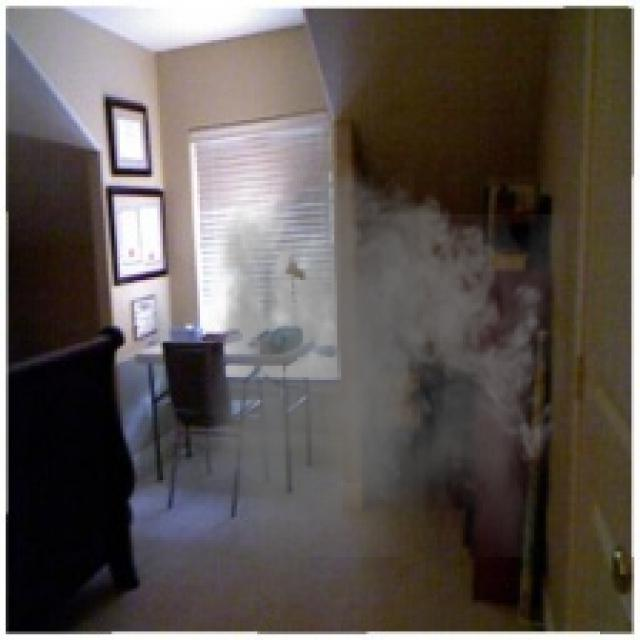smoke: (200, 146, 566, 557)
